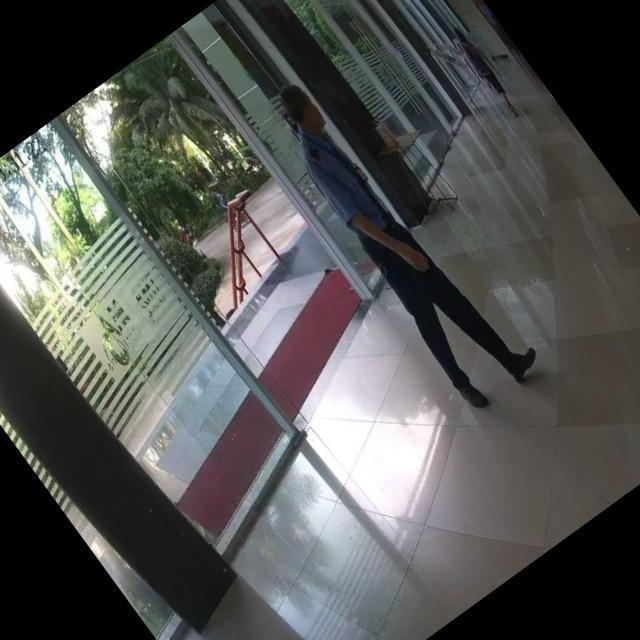person: (250, 60, 539, 415)
